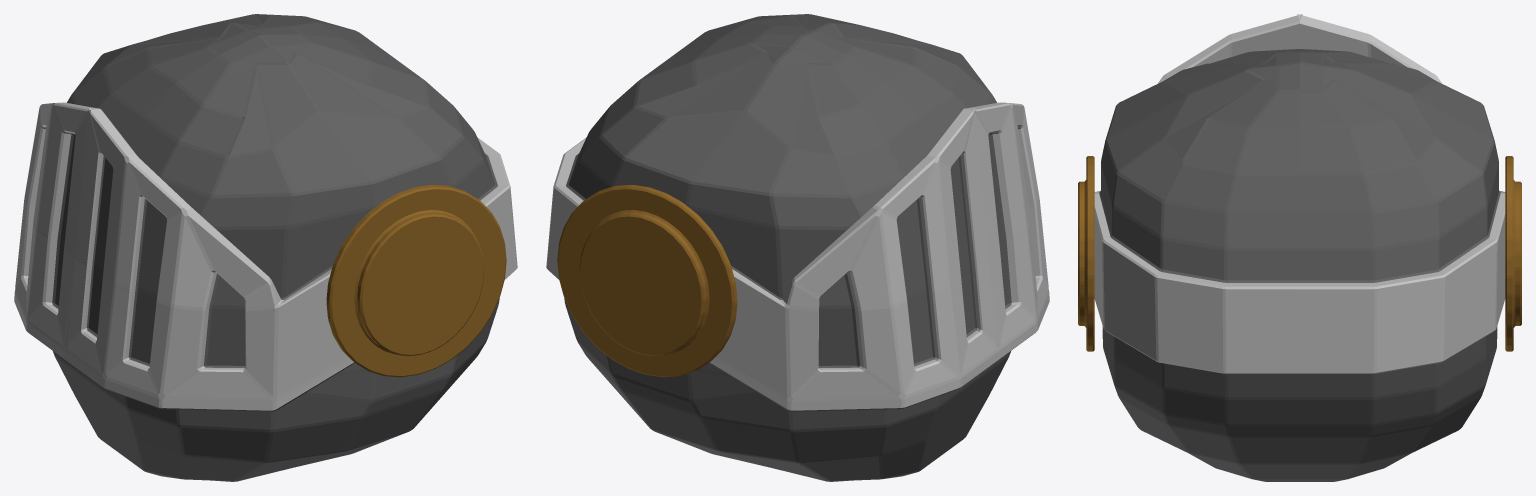
Rendered from casco1.fbx.
3 views of the same model, side by side, from view 1: azimuth 30°, elevation 25°; view 2: azimuth 150°, elevation 25°; view 3: azimuth 270°, elevation 25° (orthographic). The views are drawn at different scales.
Visible parts, largest first — view 1: casco 1 bajado; view 2: casco 1 bajado; view 3: casco 1 bajado.
Boxes of the visible parts, <box> form: casco 1 bajado: <box>14,14,517,481</box>; casco 1 bajado: <box>546,14,1049,481</box>; casco 1 bajado: <box>1078,14,1521,481</box>.
Bounding box in the file's own units: 117 × 112 × 117.
